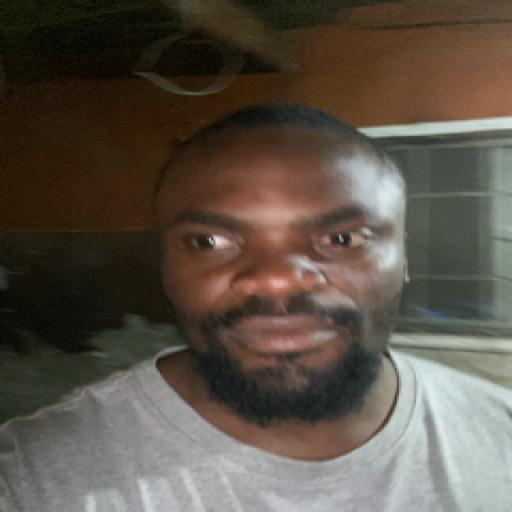JEANLUC: (154, 107, 406, 418)
